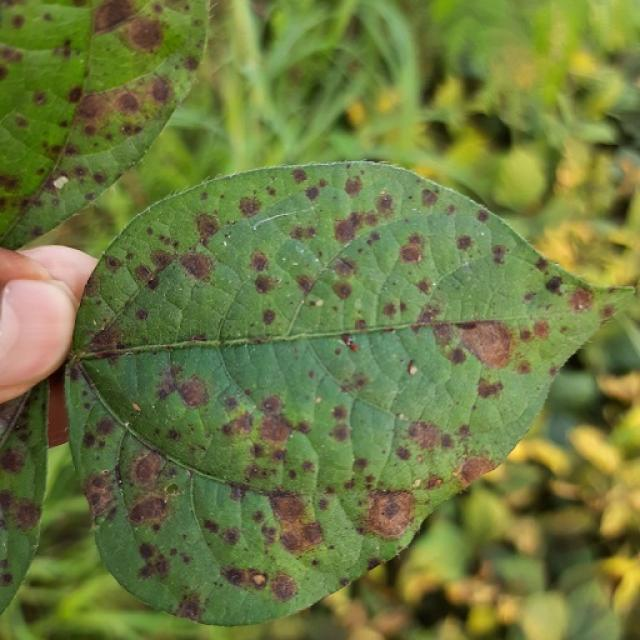Anthracnose: (217, 385, 322, 490), (72, 77, 164, 148), (118, 446, 185, 535), (129, 242, 200, 297), (269, 493, 326, 555), (456, 316, 520, 371), (455, 319, 517, 370), (153, 364, 214, 414), (362, 489, 416, 540), (166, 368, 216, 422), (83, 468, 120, 518), (74, 90, 118, 131), (93, 0, 141, 33), (256, 407, 294, 447), (127, 493, 170, 528), (125, 15, 165, 52), (405, 419, 448, 453), (456, 455, 496, 488), (5, 498, 42, 533), (224, 566, 270, 593), (131, 451, 165, 487), (178, 250, 214, 283), (332, 214, 364, 246), (396, 233, 426, 266), (566, 287, 595, 314), (269, 574, 298, 601), (194, 212, 221, 240), (113, 90, 141, 116), (0, 447, 26, 475), (148, 76, 172, 104), (476, 377, 504, 400), (92, 331, 122, 352), (175, 597, 201, 621), (253, 273, 280, 296), (238, 195, 263, 218), (249, 251, 271, 274), (133, 264, 155, 285), (330, 423, 350, 444), (344, 175, 364, 196), (531, 319, 550, 340), (489, 243, 508, 264), (419, 187, 438, 207), (333, 281, 353, 300), (261, 395, 282, 413), (544, 275, 564, 293), (449, 347, 467, 366), (456, 234, 474, 252), (600, 302, 618, 320), (331, 404, 348, 422), (425, 474, 444, 490), (381, 302, 398, 318), (291, 168, 308, 184), (67, 86, 83, 103), (144, 275, 161, 291), (261, 308, 276, 326), (304, 186, 320, 201), (406, 359, 418, 376), (135, 308, 149, 321), (476, 209, 489, 223), (252, 573, 266, 586), (1, 572, 13, 586)
Blackgram: (66, 162, 629, 624)
